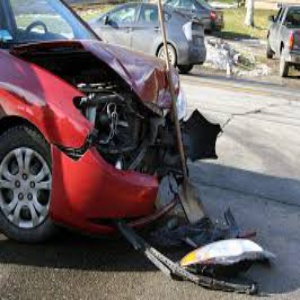bonnet: (63, 36, 179, 110)
bumper: (53, 147, 163, 234)
